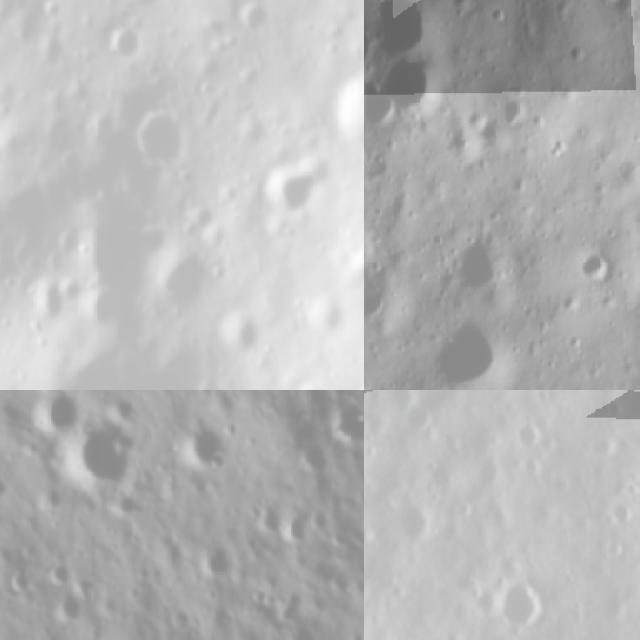crater: (67, 415, 148, 497), (382, 479, 460, 558), (430, 317, 513, 390), (486, 566, 566, 640), (449, 231, 517, 308), (371, 0, 444, 61), (381, 54, 446, 122), (126, 107, 183, 182), (150, 242, 200, 309), (262, 157, 319, 214), (178, 420, 236, 472), (394, 390, 451, 442), (333, 63, 364, 140), (320, 394, 364, 445), (33, 390, 84, 433), (505, 409, 551, 453), (244, 494, 287, 540), (193, 538, 235, 584), (582, 427, 625, 468), (26, 274, 60, 324), (100, 22, 135, 68), (600, 494, 640, 534), (224, 315, 264, 354), (575, 252, 617, 288), (496, 95, 534, 132), (276, 512, 313, 549), (297, 442, 335, 478), (41, 554, 77, 589), (364, 284, 393, 324), (0, 568, 41, 595), (52, 594, 92, 621), (624, 390, 640, 451), (235, 0, 268, 29), (364, 564, 382, 615)
